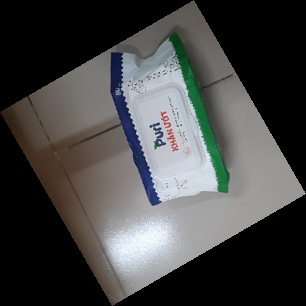Puri Trang: (107, 33, 230, 205)
